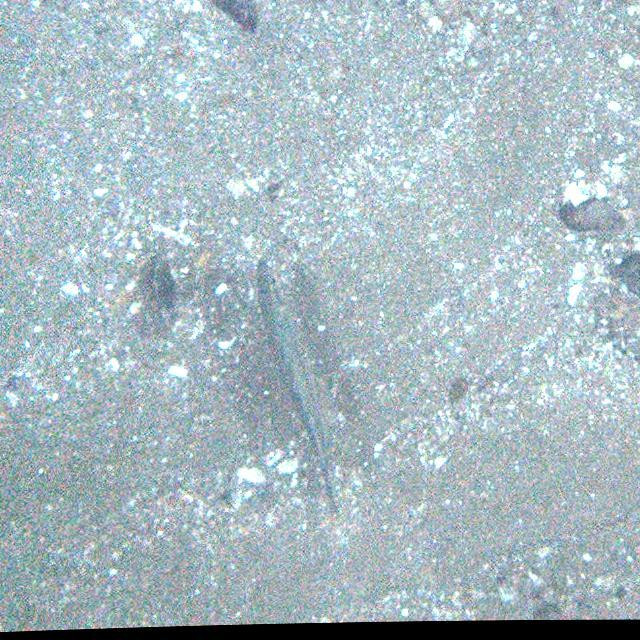roundfish: (244, 249, 342, 508)
